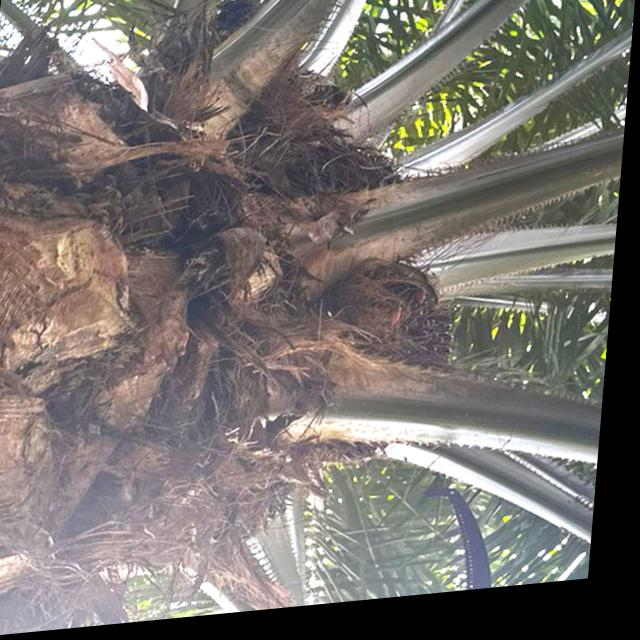ripe: (287, 257, 475, 481)
